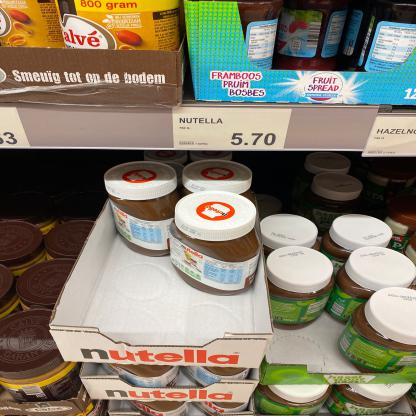prtg: (174, 109, 292, 150), (364, 118, 416, 156), (1, 108, 32, 148)
